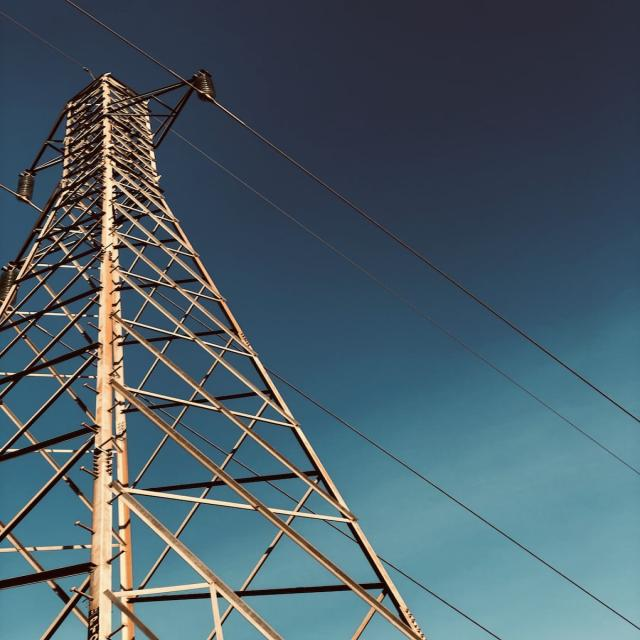transmission tower: (15, 68, 461, 627)
